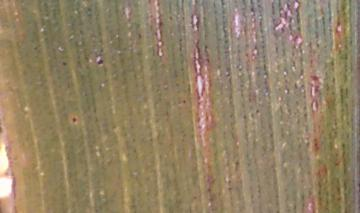tarspot: (1, 142, 20, 213), (202, 44, 211, 65), (309, 72, 320, 82), (312, 137, 319, 152), (94, 57, 104, 66), (1, 120, 5, 137), (234, 159, 239, 172), (293, 80, 299, 90), (219, 1, 226, 8), (166, 14, 173, 21), (71, 116, 77, 124), (136, 32, 142, 40), (32, 44, 38, 52), (273, 45, 279, 53), (181, 99, 187, 106), (249, 112, 255, 119), (97, 47, 104, 52), (226, 186, 233, 191), (61, 61, 67, 66), (255, 107, 260, 113), (242, 114, 246, 120)
